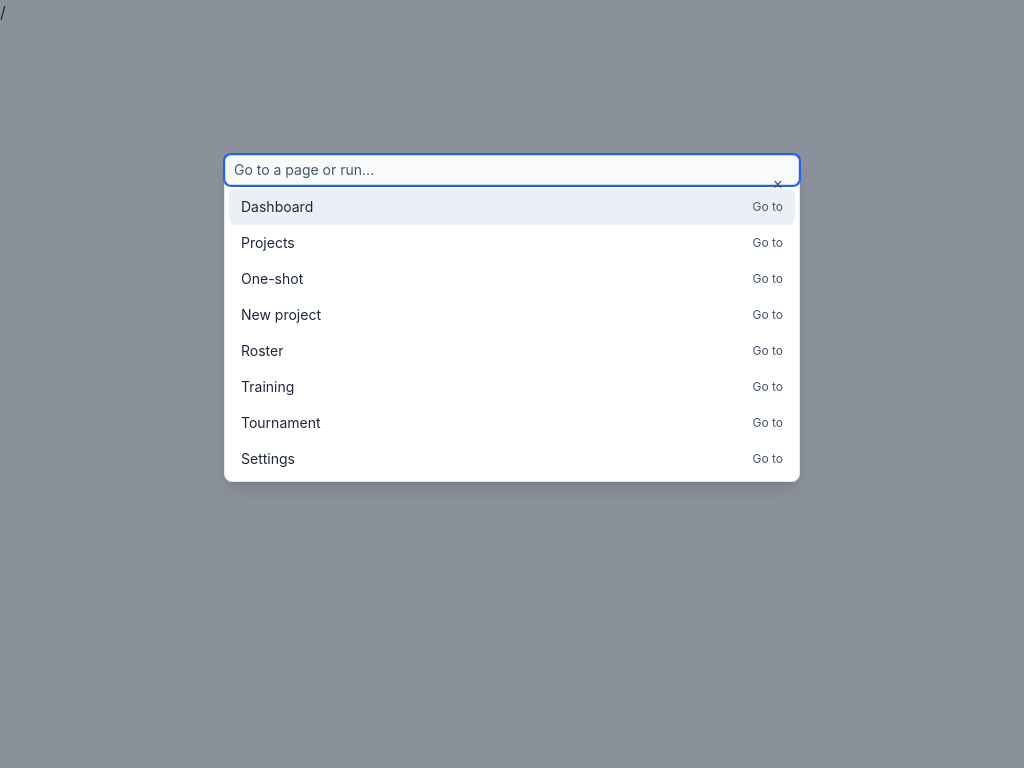
Test case: CommandPalette › filters and opens the highlighted item with Enter
Step 1. Type "roster" into the dropdown named "Search routes and runs" → (512, 170), box [225,155,799,185]
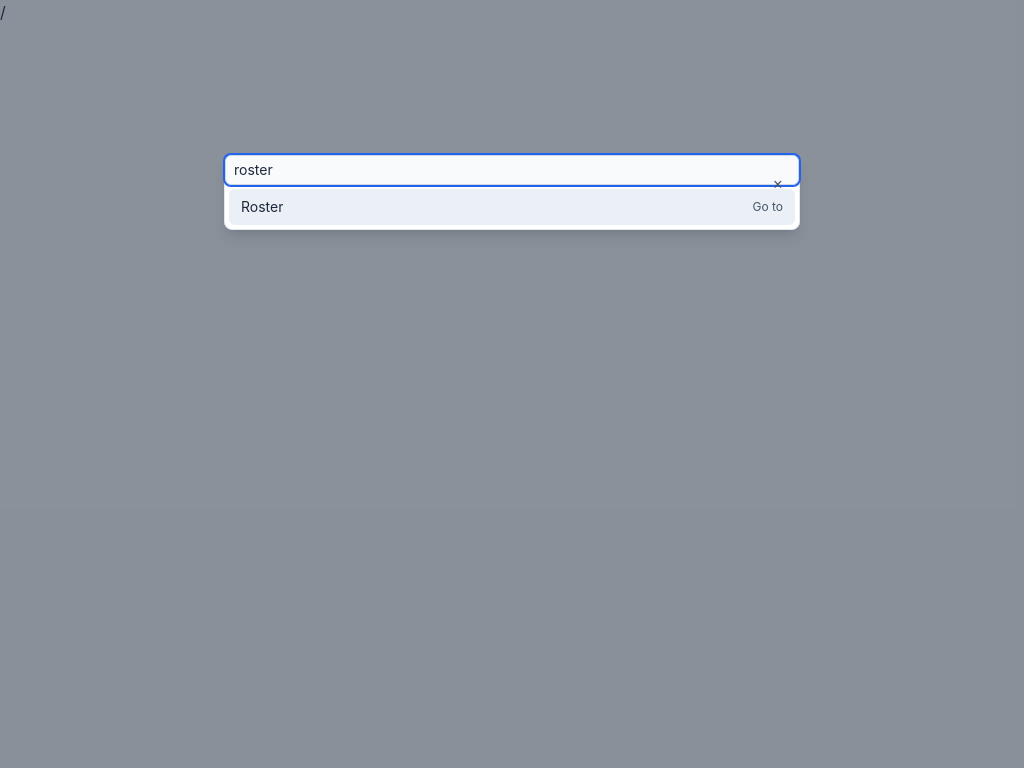
Check: the number of options is 1, box [229,189,795,225]
Step 2. Press Enter in the dropdown named "Search routes and runs", box [225,155,799,185]
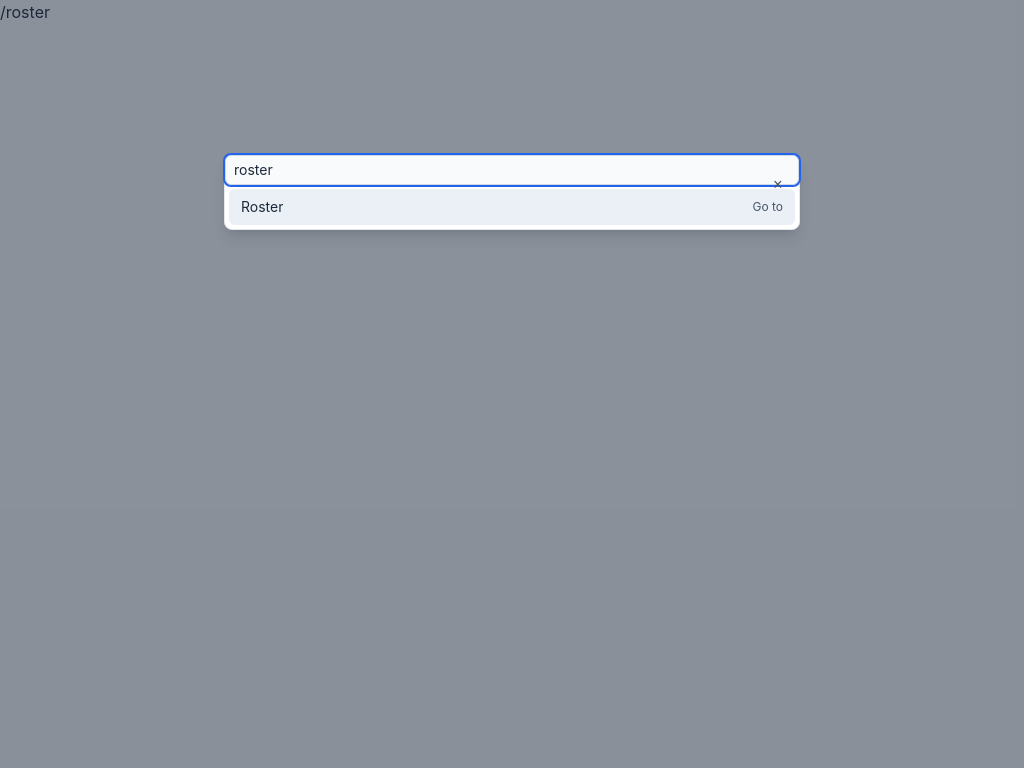
Check: the text with test id "where" reads "/roster", box [0,2,50,22]
